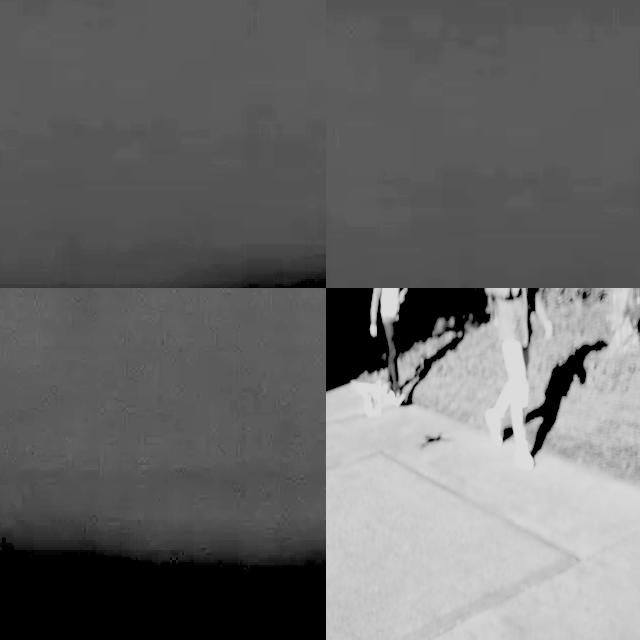drone: (350, 376, 386, 422)
